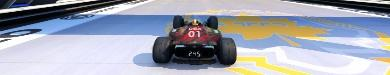Car: (151, 14, 236, 65)
Solid White and black: (151, 13, 389, 74)
